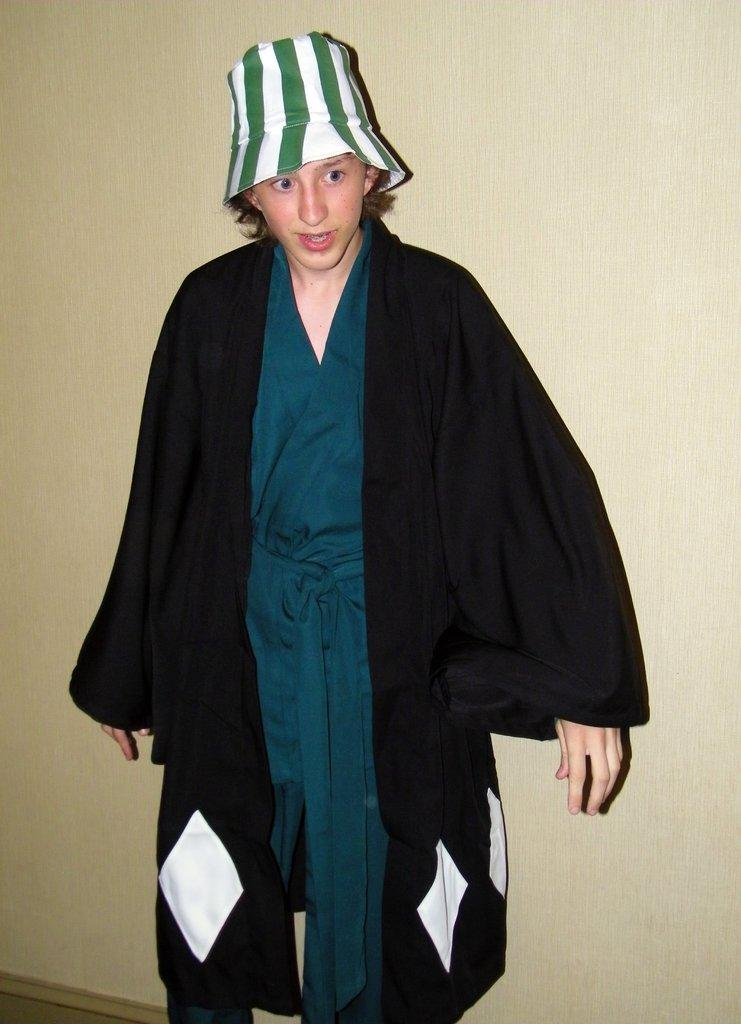Hat: (223, 32, 404, 198)
